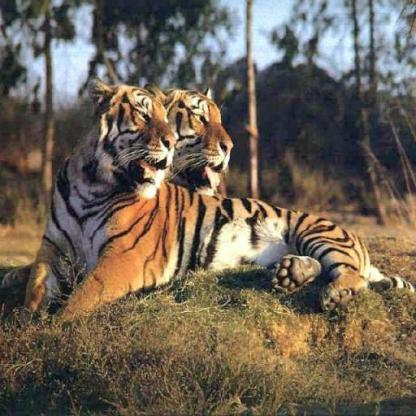Tiger: (21, 76, 394, 319), (155, 80, 240, 193)
